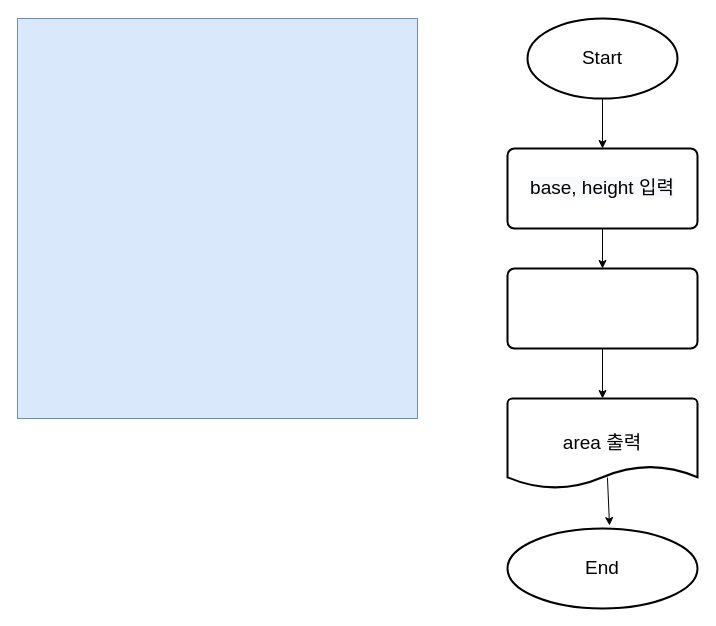
Image size: 716x626. Some labels were removed from this diagram. The shapes that lost their labels are listed below. From the top down, each one's box as (x1, y1, x2, y2) in pixels, then its label:
(16, 18, 418, 418): 밑변 base와 높이 height를 입력한다. base * height / 2 = area area를 출력.
(506, 267, 698, 349): base * height / 2 = area
